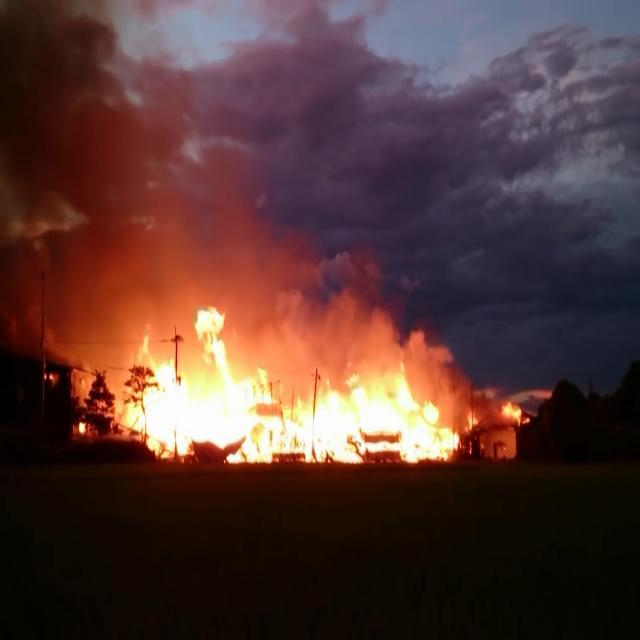Fire: (116, 307, 462, 462), (500, 396, 529, 426), (466, 407, 478, 431), (78, 420, 86, 433)
